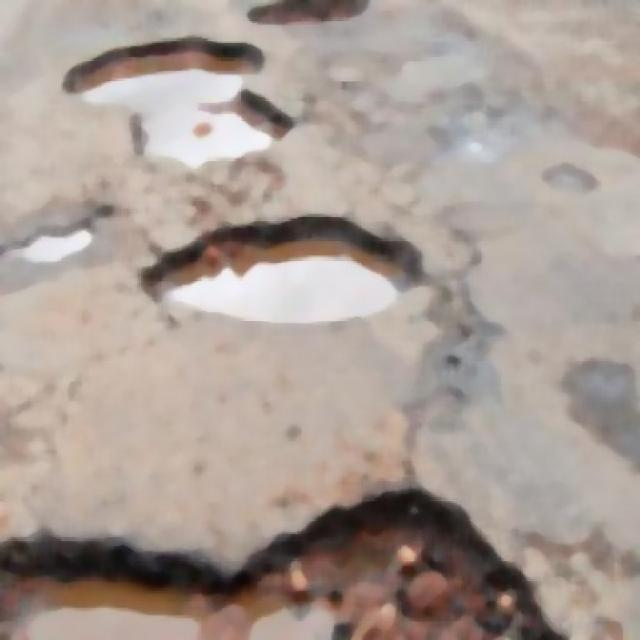Pothole: (0, 508, 595, 636), (173, 196, 422, 338), (85, 53, 280, 175), (260, 0, 372, 51)
